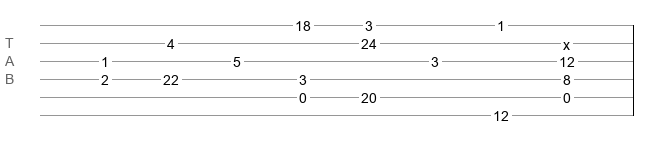0: (299, 90, 307, 100), (563, 90, 571, 100)
1: (101, 54, 109, 64), (497, 18, 505, 28)
12: (493, 108, 509, 118), (559, 54, 575, 64)
18: (295, 18, 311, 28)
2: (101, 72, 109, 82)
20: (361, 90, 377, 100)
22: (163, 72, 179, 82)
24: (361, 36, 377, 46)
3: (299, 72, 307, 82), (365, 18, 373, 28), (431, 54, 439, 64)
4: (167, 36, 175, 46)
5: (233, 54, 241, 64)
8: (563, 72, 571, 82)
x: (563, 37, 570, 45)
